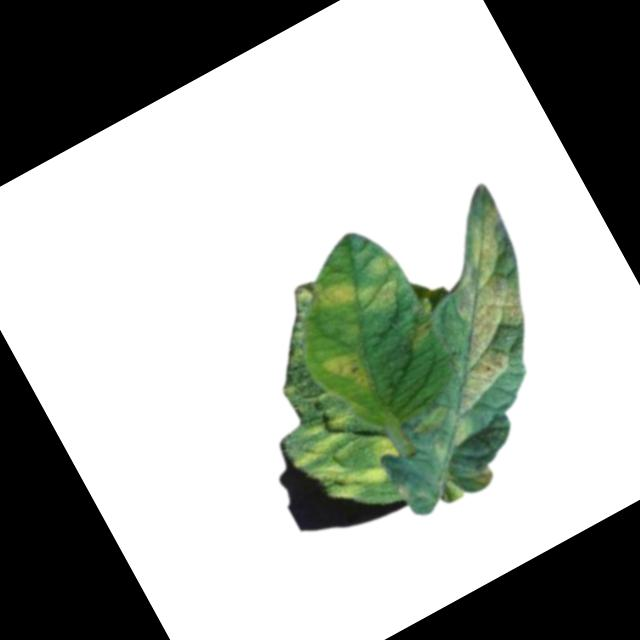Leaf_Mold: (380, 201, 576, 415), (285, 393, 408, 513), (311, 245, 418, 340), (317, 340, 377, 403), (467, 459, 496, 490)
